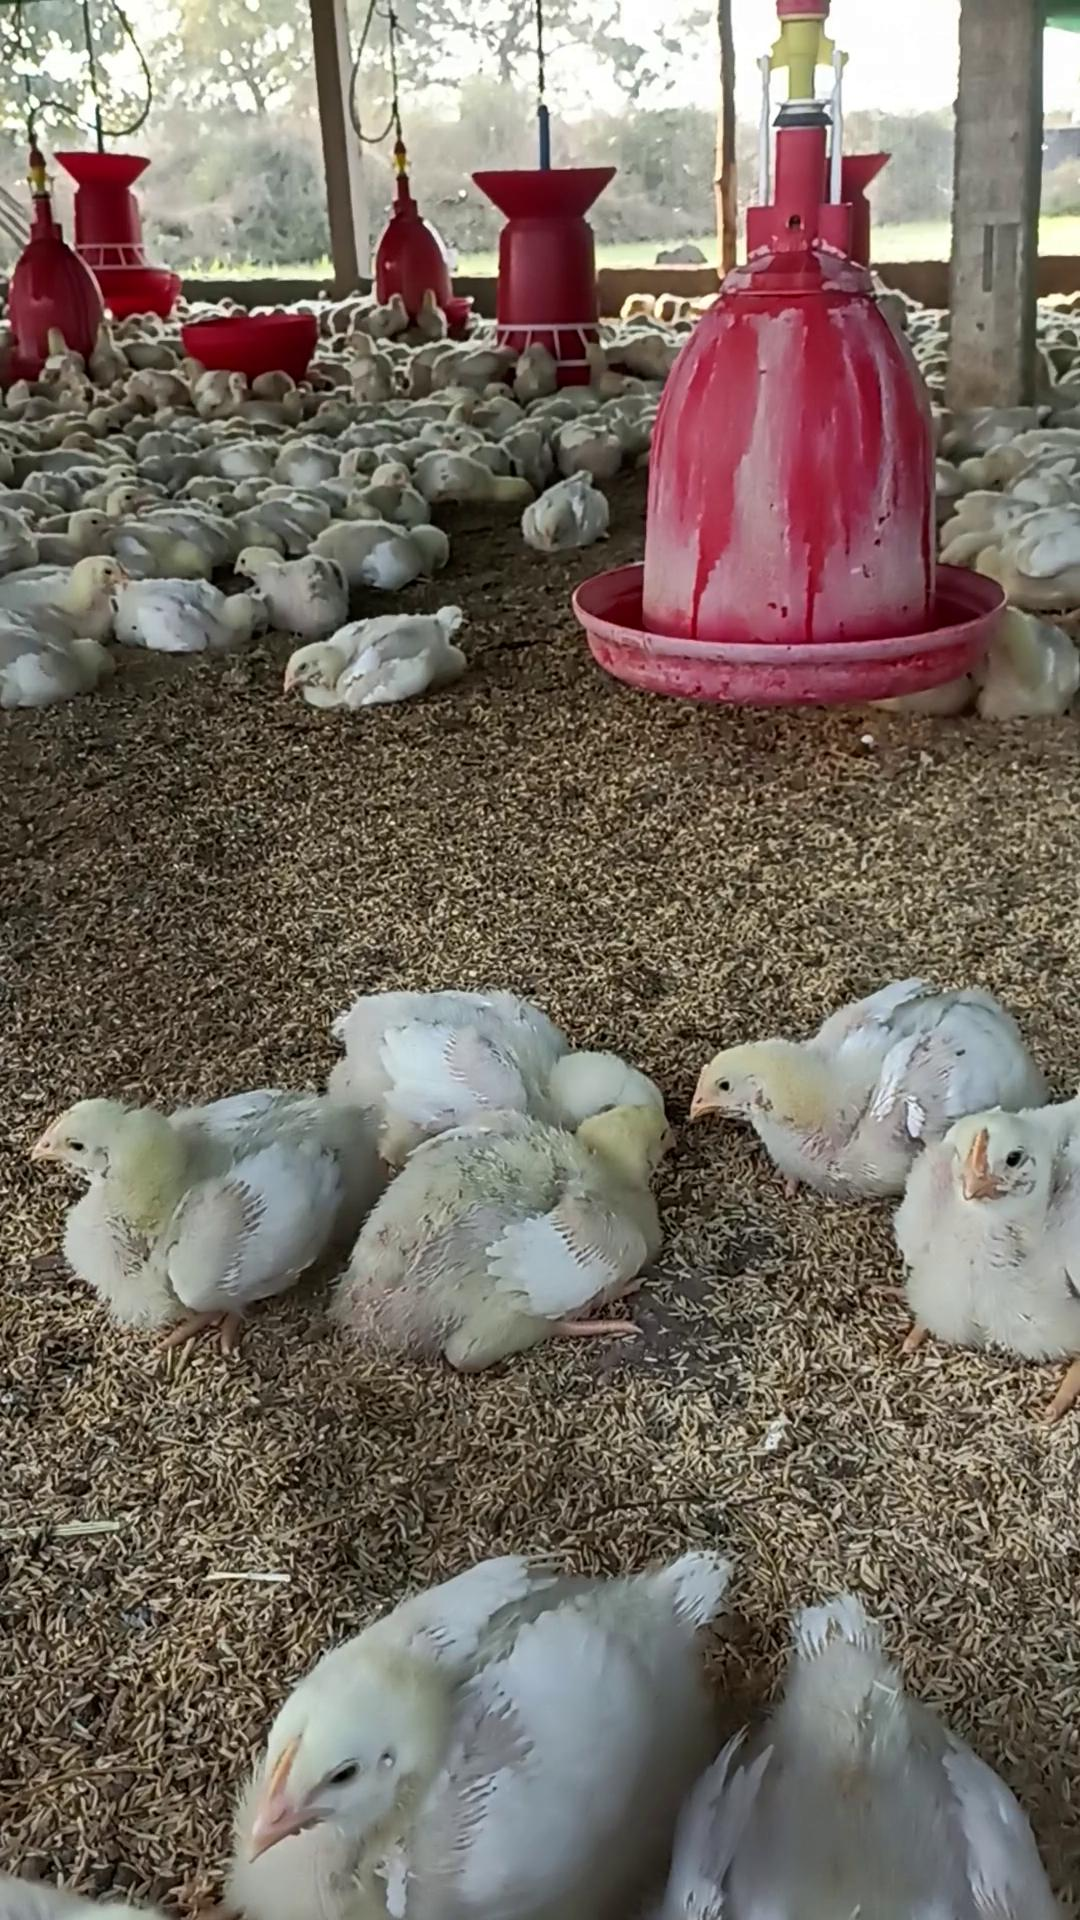Pollos: (216, 1509, 742, 1920), (328, 1104, 690, 1352), (15, 1076, 332, 1311), (696, 976, 1025, 1149), (906, 1083, 1080, 1331), (287, 596, 473, 723), (0, 550, 131, 647), (240, 545, 342, 621), (512, 477, 624, 546)
